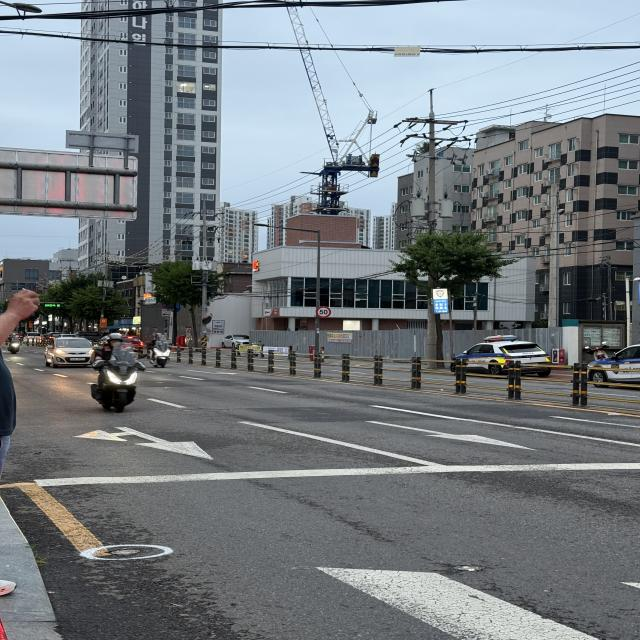car: (41, 330, 104, 371)
motorcycle: (84, 326, 146, 416), (143, 331, 182, 369)
